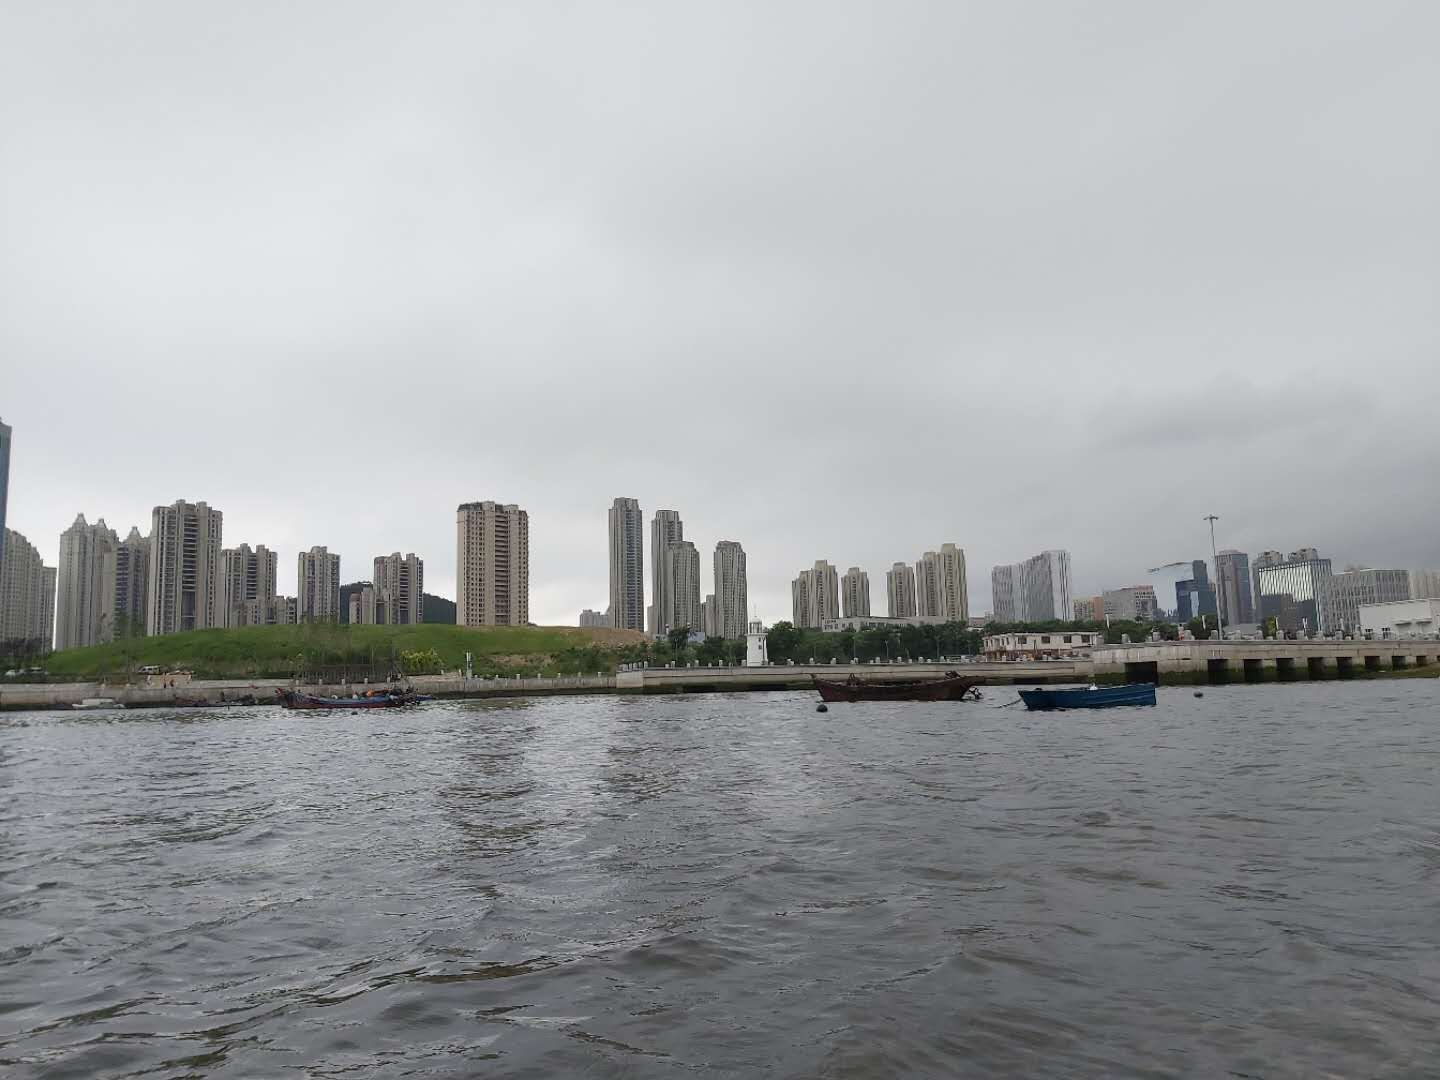ball: (1191, 680, 1209, 704), (808, 700, 835, 715)
boat: (1011, 673, 1167, 719), (799, 667, 988, 701), (272, 680, 422, 714), (65, 691, 128, 716)
